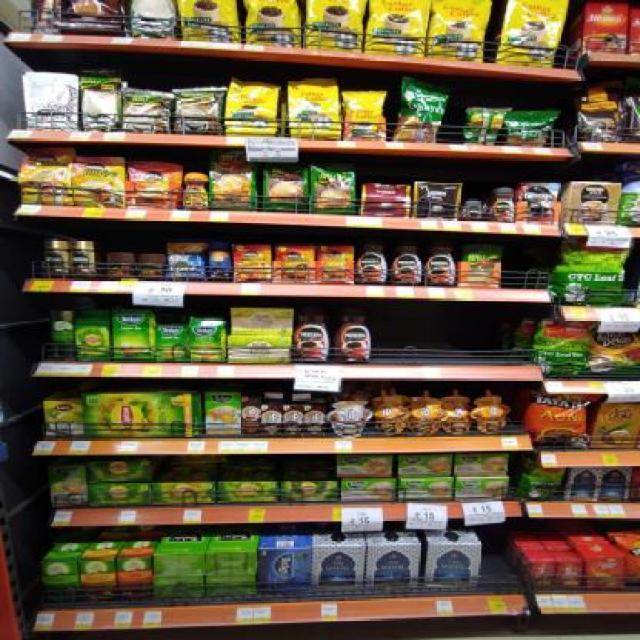Coffee: (20, 149, 72, 205), (74, 159, 124, 206), (334, 304, 374, 362), (295, 304, 333, 360), (132, 162, 179, 207), (354, 238, 388, 284), (390, 238, 424, 284), (519, 184, 558, 221), (425, 239, 457, 284), (70, 240, 96, 277), (181, 173, 208, 207), (44, 240, 68, 277), (491, 188, 515, 220), (462, 201, 484, 219)
